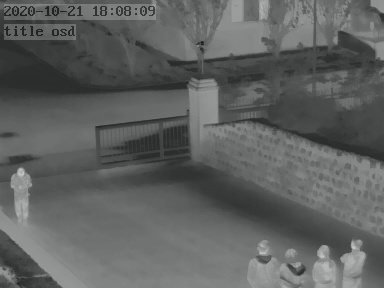person: (277, 246, 308, 288), (10, 165, 32, 224), (311, 242, 339, 288), (248, 241, 274, 288), (343, 238, 367, 288)
